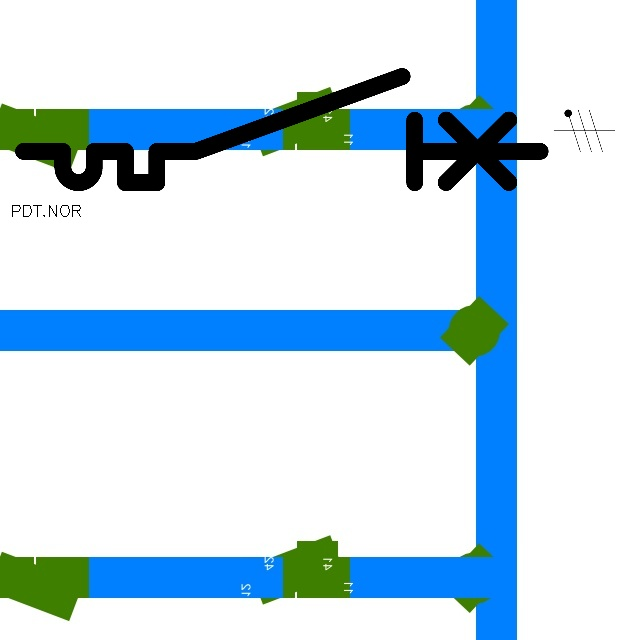interruptor_termomagnetico: (10, 63, 554, 196)
